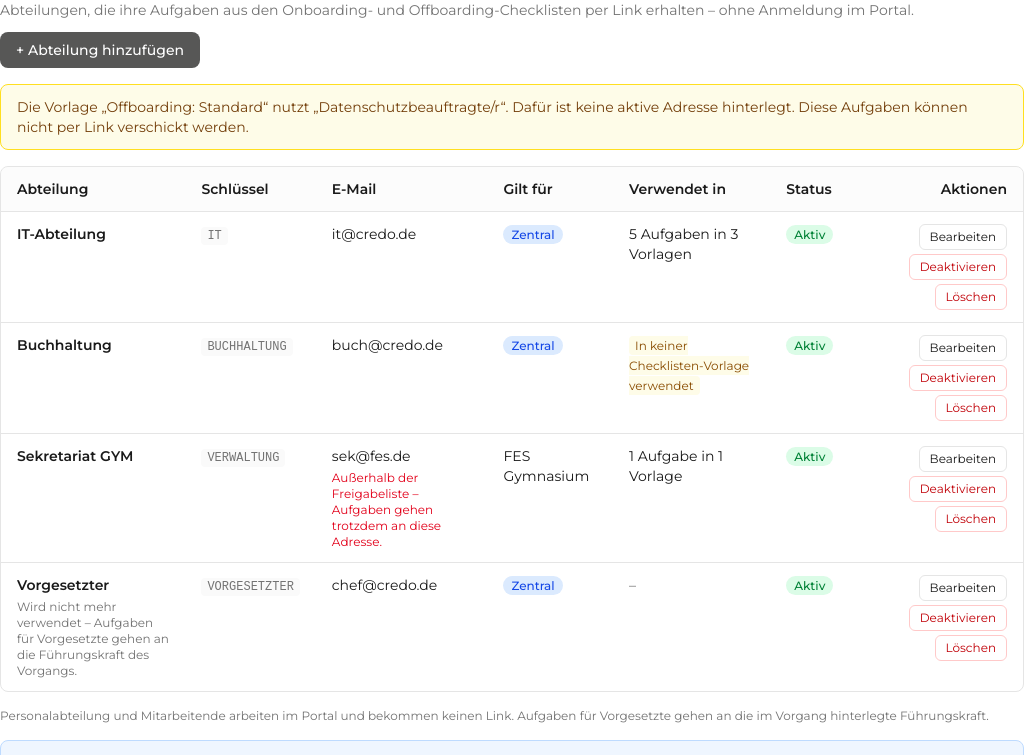
Test case: Zeilenaktionen › Bearbeiten: Anzeigename und E-Mail in der Zeile, Meldung mit dem neuen Namen
Click the button "Bearbeiten" in the row of "IT-Abteilung" at (963, 237), box [919,224,1007,250]
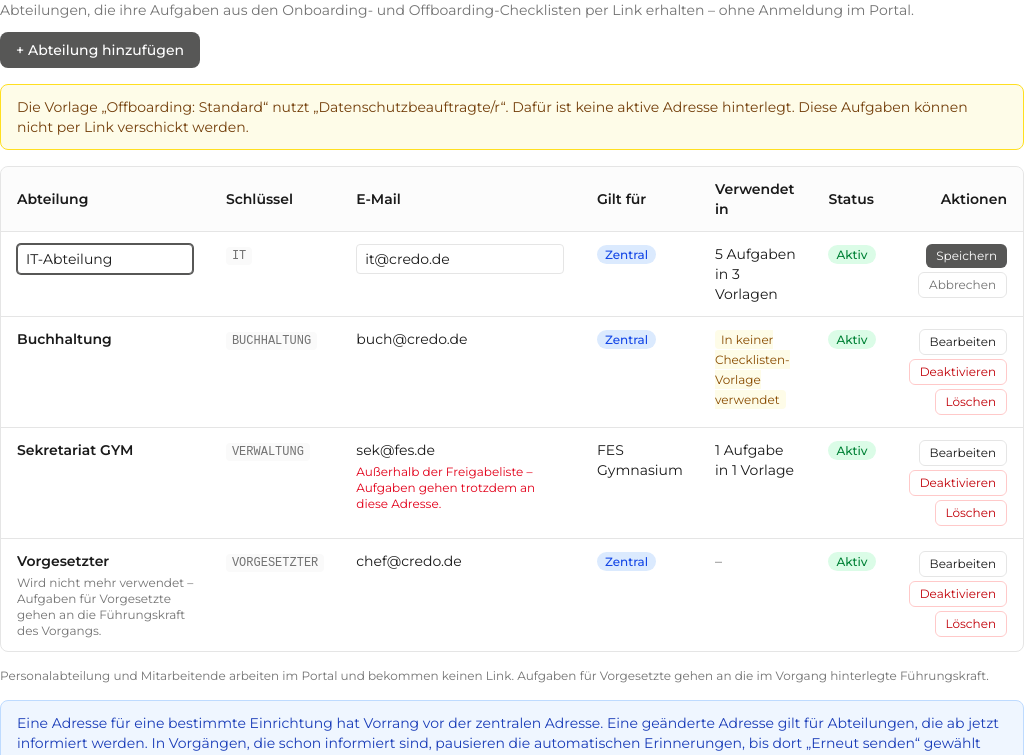
Replace the text in the field named "Anzeigename" with "IT-Support FES" at (105, 259), box [17,244,193,274]
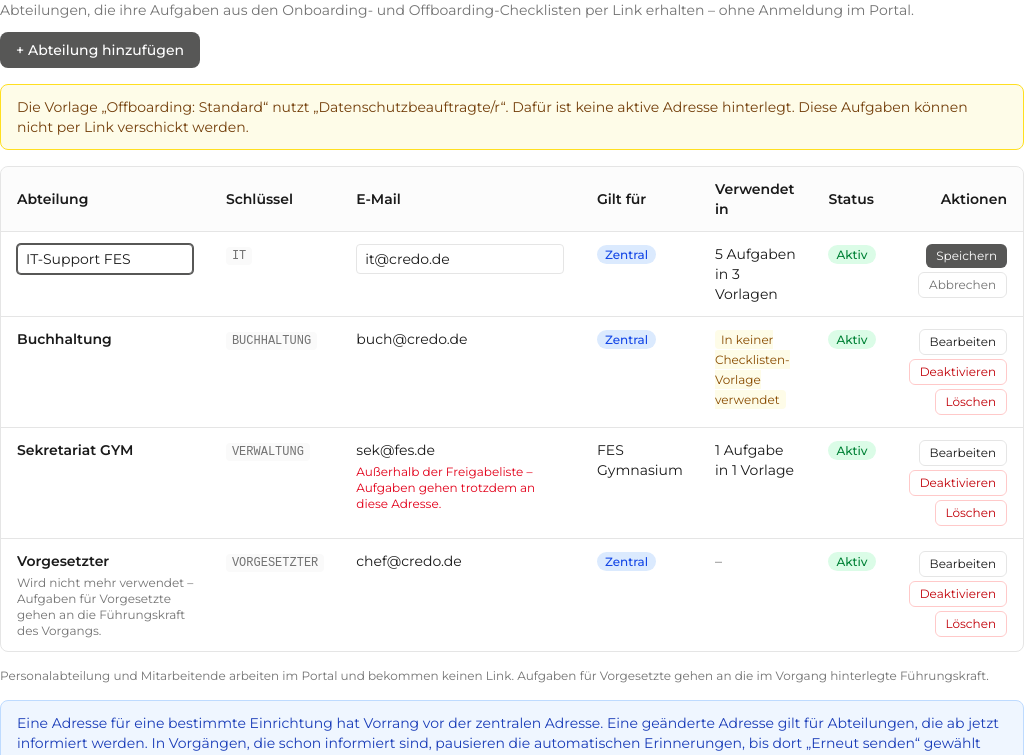
Replace the text in the field named "E-Mail-Adresse" with "support@fes.de" at (460, 259), box [356,244,564,274]
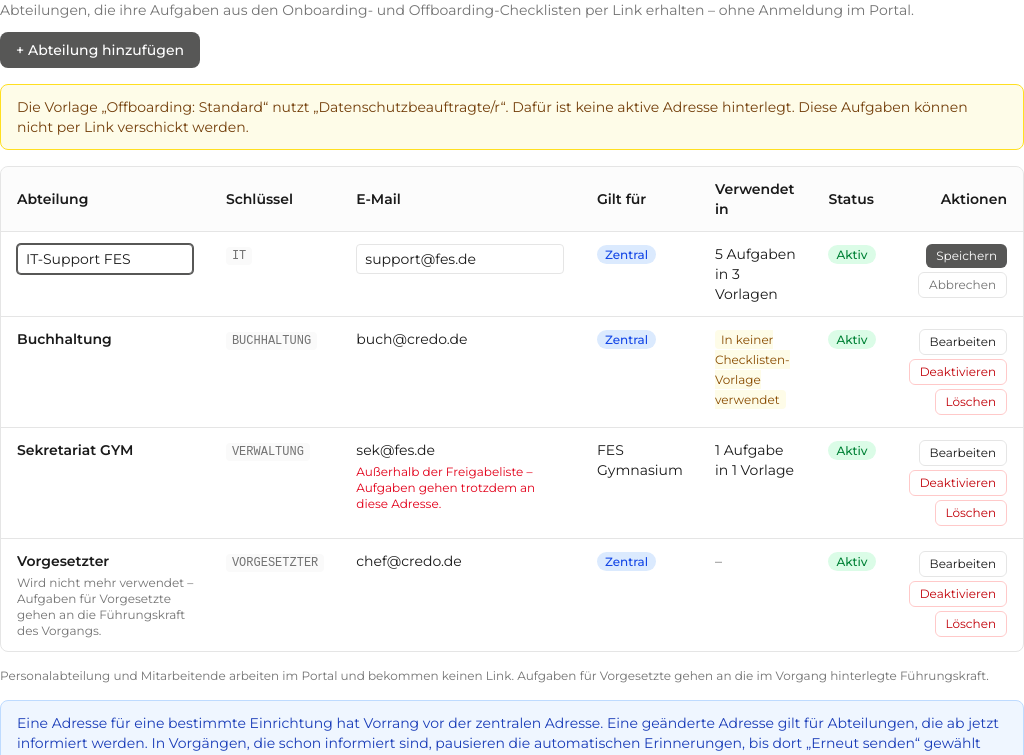
Click the button "Speichern" at (967, 256), box [926,244,1007,268]
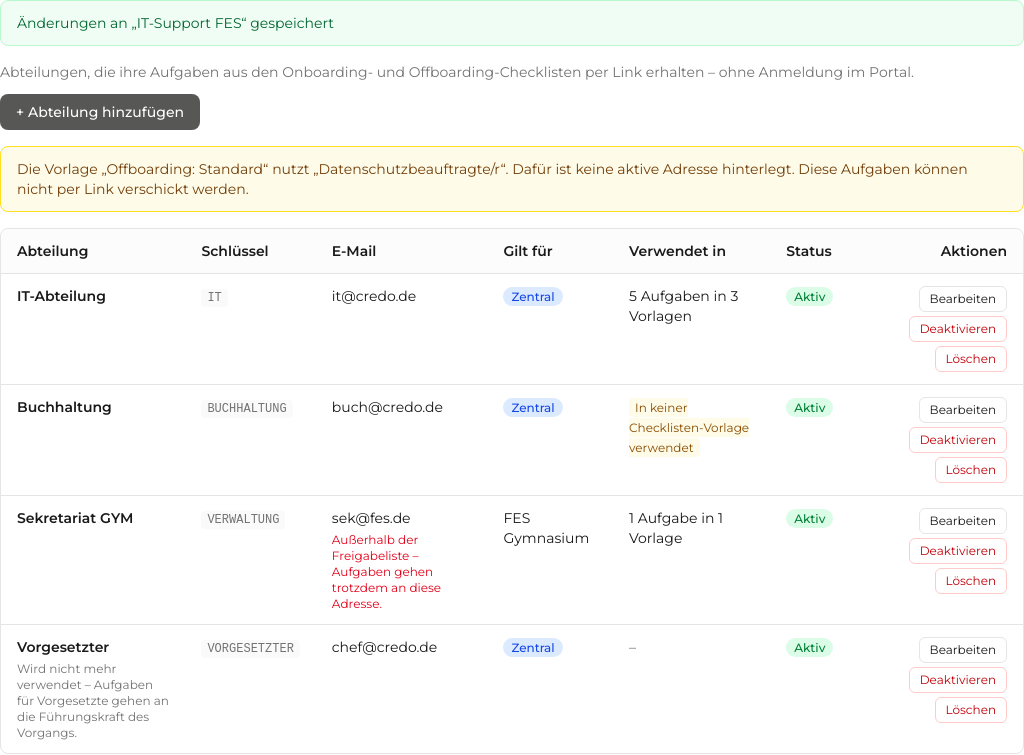
Expected: the text "Änderungen an „IT-Support FES“ gespeichert" is shown, [0,0,1023,46]
